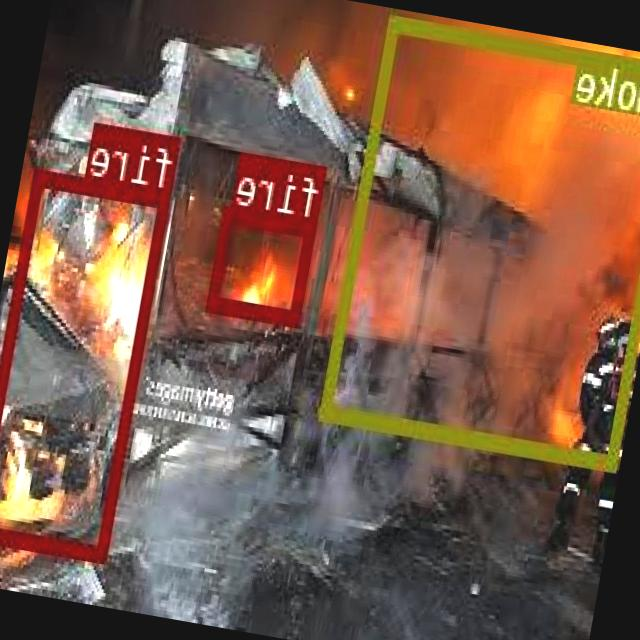fire: (0, 168, 173, 559), (208, 204, 318, 326)
smoke: (322, 14, 640, 470)
